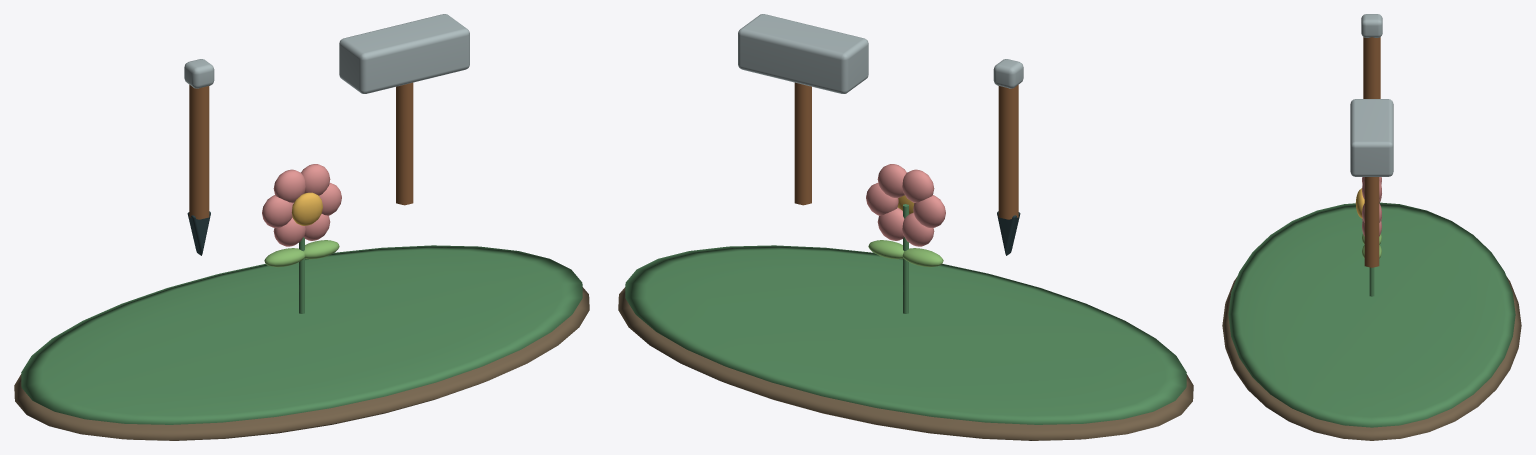
The model's file is complete-second-art-technique.glb.
3 views of the same model, side by side, from view 1: azimuth 30°, elevation 25°; view 2: azimuth 150°, elevation 25°; view 3: azimuth 270°, elevation 25° (orthographic). The views are drawn at different scales.
Visible parts, largest first — view 1: complete-second-art-technique_surface_01, complete-second-art-technique_surface_00, complete-second-art-technique_surface_04, complete-second-art-technique_surface_02, complete-second-art-technique_surface_06, complete-second-art-technique_surface_05, complete-second-art-technique_surface_07; view 2: complete-second-art-technique_surface_01, complete-second-art-technique_surface_00, complete-second-art-technique_surface_04, complete-second-art-technique_surface_02, complete-second-art-technique_surface_06, complete-second-art-technique_surface_05; view 3: complete-second-art-technique_surface_01, complete-second-art-technique_surface_00, complete-second-art-technique_surface_04, complete-second-art-technique_surface_02, complete-second-art-technique_surface_06.
Boxes of the visible parts, x1,y1,x2,y2 form: complete-second-art-technique_surface_01: (21,237,582,424); complete-second-art-technique_surface_00: (14,287,589,440); complete-second-art-technique_surface_04: (184,14,469,93); complete-second-art-technique_surface_02: (189,82,413,219); complete-second-art-technique_surface_06: (262,164,341,246); complete-second-art-technique_surface_05: (264,240,339,267); complete-second-art-technique_surface_07: (291,192,322,225); complete-second-art-technique_surface_01: (625,204,1186,424); complete-second-art-technique_surface_00: (618,287,1193,440); complete-second-art-technique_surface_04: (738,14,1023,93); complete-second-art-technique_surface_02: (794,82,1018,219); complete-second-art-technique_surface_06: (866,164,945,246); complete-second-art-technique_surface_05: (868,240,943,267); complete-second-art-technique_surface_01: (1228,202,1515,427); complete-second-art-technique_surface_00: (1222,276,1521,440); complete-second-art-technique_surface_04: (1350,14,1393,176); complete-second-art-technique_surface_02: (1363,37,1380,267); complete-second-art-technique_surface_06: (1362,177,1381,236).
Bounding box in the file's own units: 4.56 × 2.58 × 2.5.
